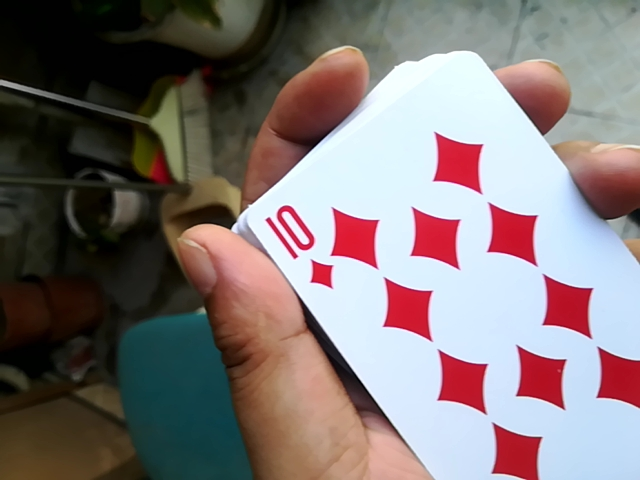fk 10: (220, 49, 638, 480)
